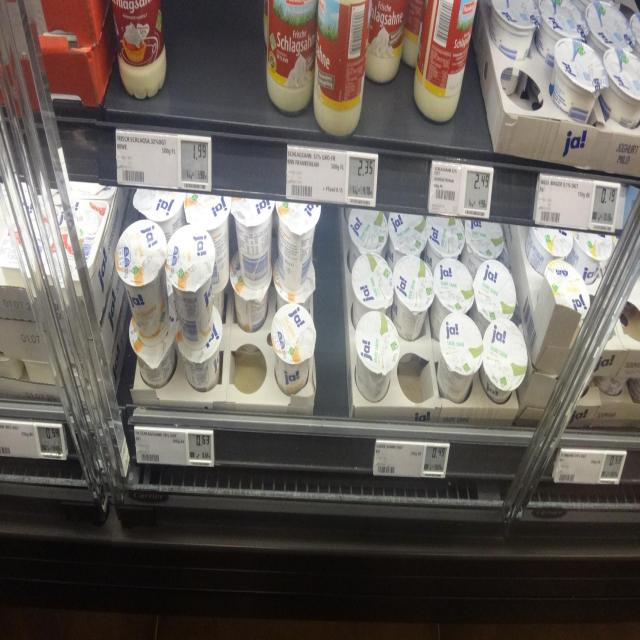Cream: (414, 0, 477, 121), (313, 0, 369, 136), (115, 220, 169, 345), (165, 225, 215, 349), (267, 0, 317, 113), (112, 0, 166, 99), (184, 193, 231, 295), (129, 296, 177, 388), (271, 303, 316, 395), (276, 201, 321, 291), (231, 198, 274, 289), (177, 306, 222, 391), (366, 0, 406, 83), (230, 254, 271, 331), (133, 188, 185, 240), (273, 258, 315, 310), (402, 0, 424, 67), (596, 377, 624, 395), (630, 12, 640, 54)
Quark: (40, 197, 109, 309), (25, 361, 54, 383), (0, 357, 25, 378)
Sour Cream: (437, 312, 483, 404), (479, 319, 527, 404), (355, 311, 399, 402), (430, 258, 474, 341), (469, 260, 516, 337), (392, 255, 434, 341), (352, 253, 393, 328), (460, 219, 504, 279), (566, 232, 614, 285), (348, 209, 388, 271), (545, 260, 589, 316), (386, 212, 426, 270), (525, 227, 573, 275), (425, 216, 465, 273)
Yogurt-occluded: (550, 38, 608, 123), (489, 0, 540, 95), (535, 0, 589, 67), (599, 48, 640, 129), (585, 0, 635, 59)
